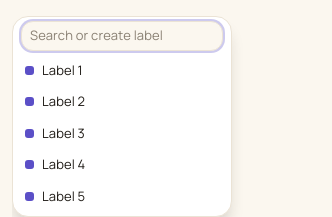
Test: LabelPicker › with five labels › without Pro, a new name shows the count and a Pro link, and Enter creates nothing
Later steps or results of the test are not shown.
(page scrolled)
Type "Marketing" into the field with placeholder "Search or create label" at (122, 36), box [21,21,223,50]
(page scrolled)
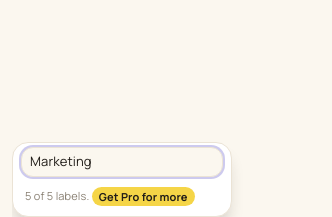
Now the element with test id "label-cap" shows "5 of 5 labels", box [25,187,89,202]
